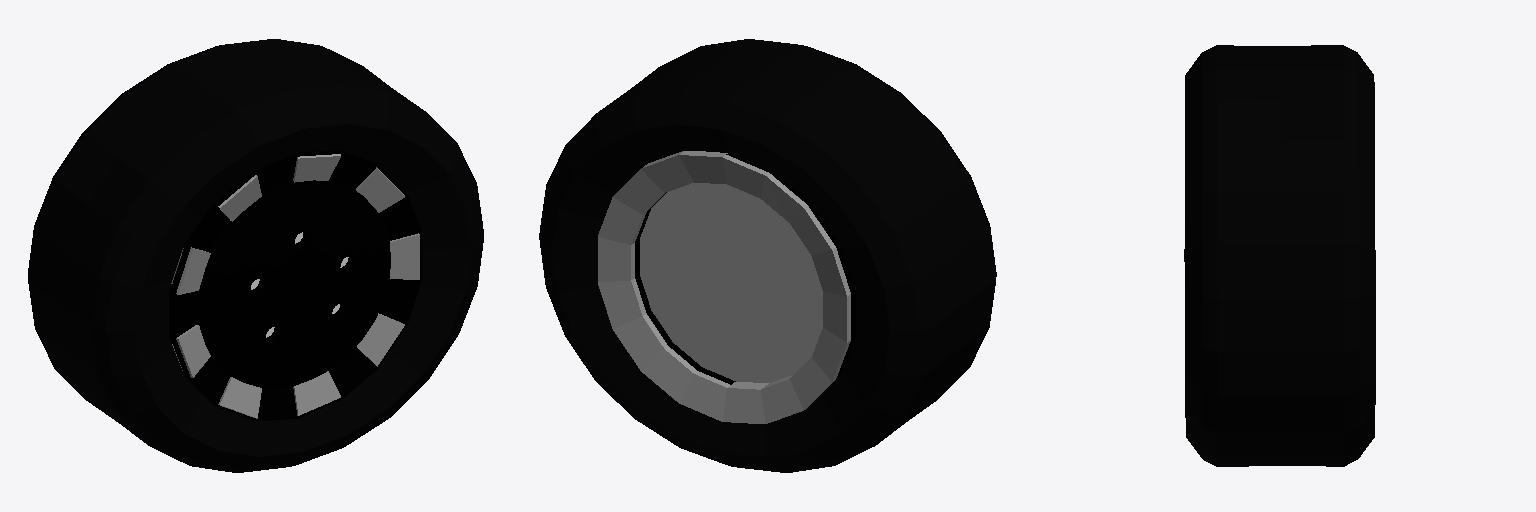
Rendered from k_rueda.obj.
3 views of the same model, side by side, from view 1: azimuth 30°, elevation 25°; view 2: azimuth 150°, elevation 25°; view 3: azimuth 270°, elevation 25° (orthographic).
Parts seen in each view (by area): view 1: Torus01, Sphere01, Tube01, Tube02; view 2: Torus01, Cylinder01, Tube02, Tube01; view 3: Torus01.
Boxes of the visible parts, <box> form: Torus01: <box>28,39,483,472</box>; Sphere01: <box>195,179,390,388</box>; Tube01: <box>169,150,421,420</box>; Tube02: <box>171,154,419,418</box>; Torus01: <box>539,39,996,472</box>; Cylinder01: <box>640,183,822,382</box>; Tube02: <box>598,151,850,423</box>; Tube01: <box>635,153,856,406</box>; Torus01: <box>1185,45,1375,466</box>.
Size of the model in its own units: 1.34 by 1.23 by 0.5657.